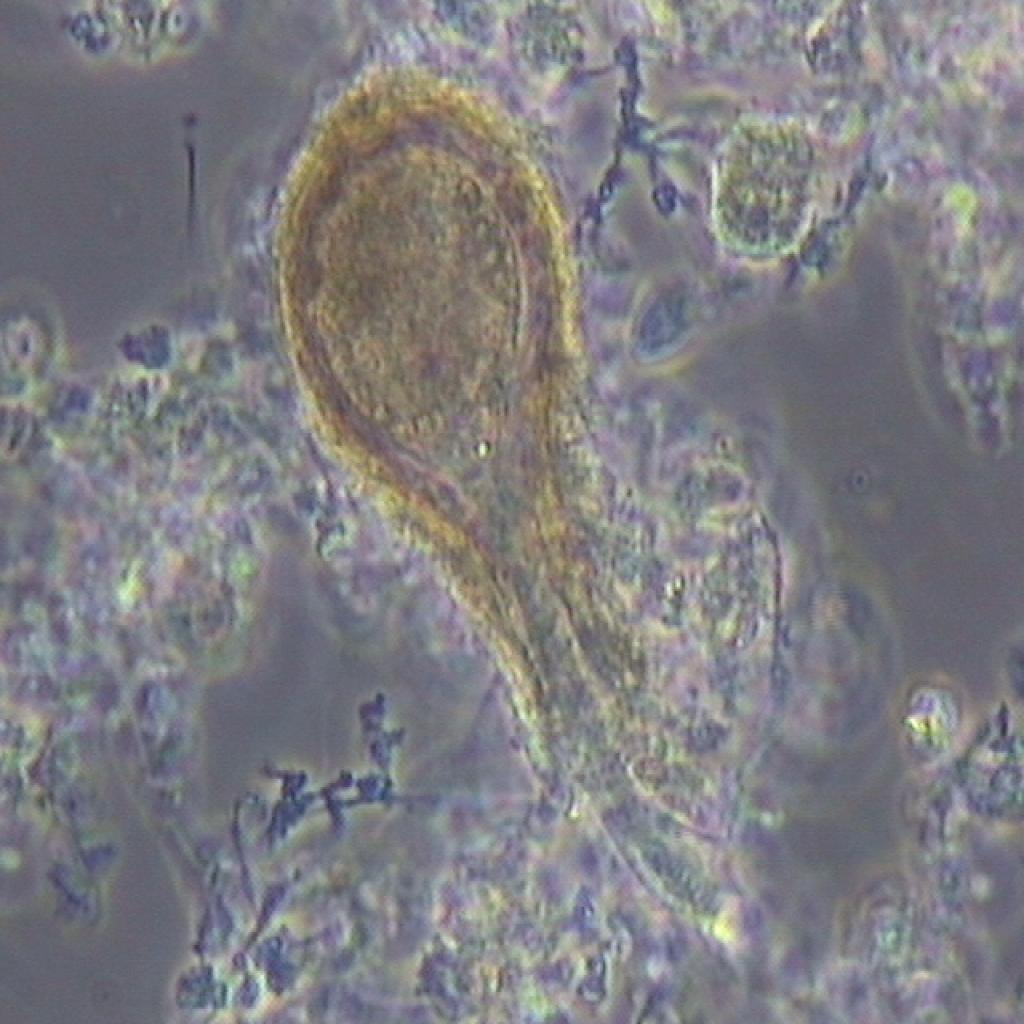Chaetopira: (267, 94, 762, 943)
